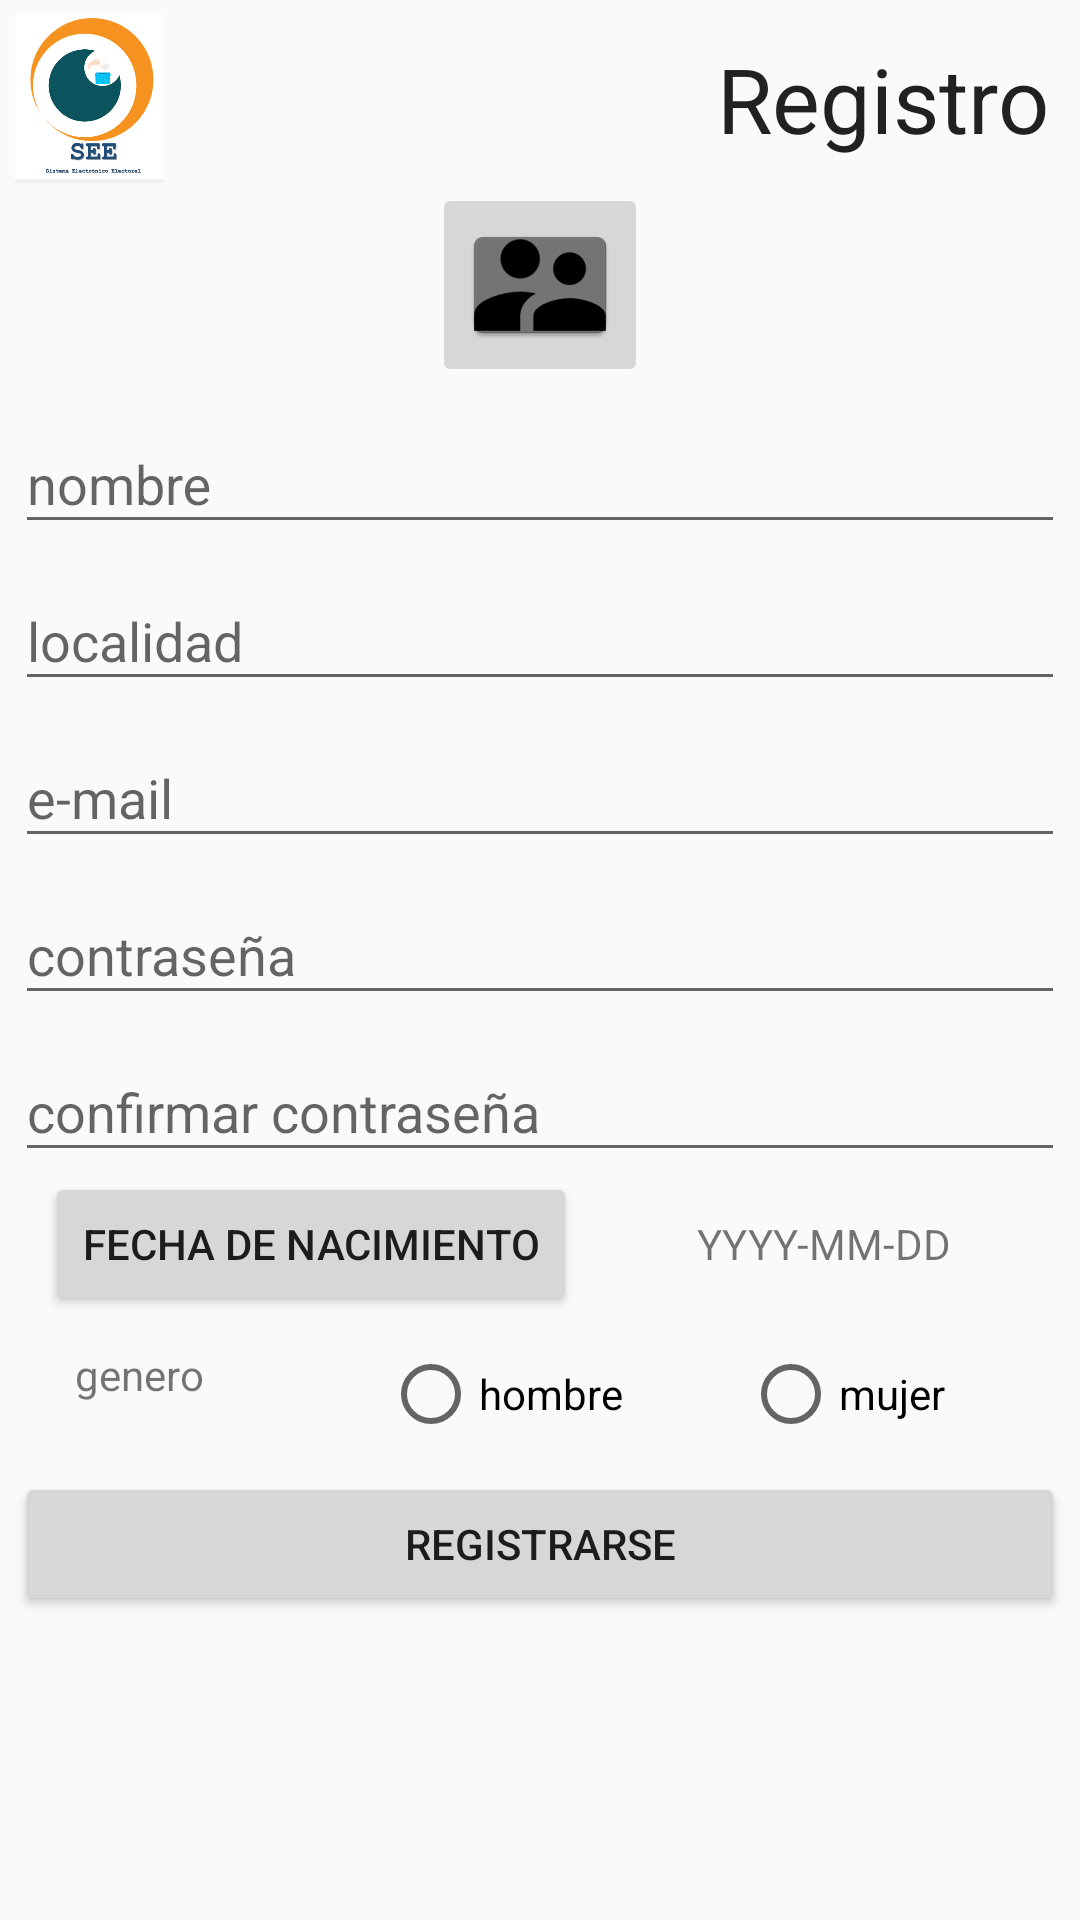

Screen size 1080x1920. Icon name, then its center in pixels as [x,y]:
supervisor account: [540,285]
